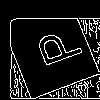P: (25, 24, 84, 73)
